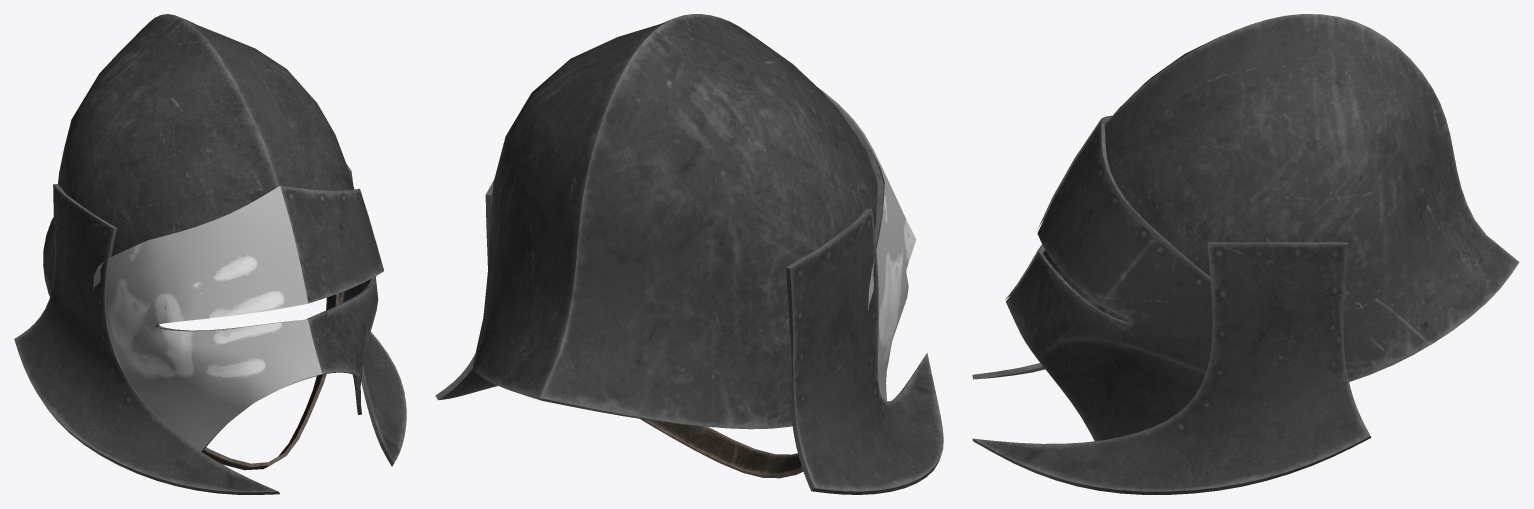
The model's file is sk_uruk_hai_helmet_sword_med_a1.fbx.
3 renders of one model, left to right at view 1: azimuth 30°, elevation 25°; view 2: azimuth 150°, elevation 25°; view 3: azimuth 270°, elevation 25°, orthographic. The views are drawn at different scales.
Visible parts, largest first — view 1: sk_uruk_hai_helmet_sword_med_a1.2, sk_uruk_hai_helmet_sword_med_a1.0, sk_uruk_hai_helmet_sword_med_a1.1; view 2: sk_uruk_hai_helmet_sword_med_a1.2, sk_uruk_hai_helmet_sword_med_a1.0, sk_uruk_hai_helmet_sword_med_a1.1; view 3: sk_uruk_hai_helmet_sword_med_a1.2.
Part boxes in pixels (x1,y1,x2,y2): sk_uruk_hai_helmet_sword_med_a1.2: [14, 14, 406, 494]; sk_uruk_hai_helmet_sword_med_a1.0: [93, 186, 322, 451]; sk_uruk_hai_helmet_sword_med_a1.1: [202, 293, 339, 470]; sk_uruk_hai_helmet_sword_med_a1.2: [435, 14, 943, 494]; sk_uruk_hai_helmet_sword_med_a1.0: [819, 88, 916, 400]; sk_uruk_hai_helmet_sword_med_a1.1: [640, 419, 803, 478]; sk_uruk_hai_helmet_sword_med_a1.2: [972, 14, 1519, 494].
Bounding box in the file's own units: 0.2651 × 0.3443 × 0.3125.
Materials: 3 (3 with a texture image).
